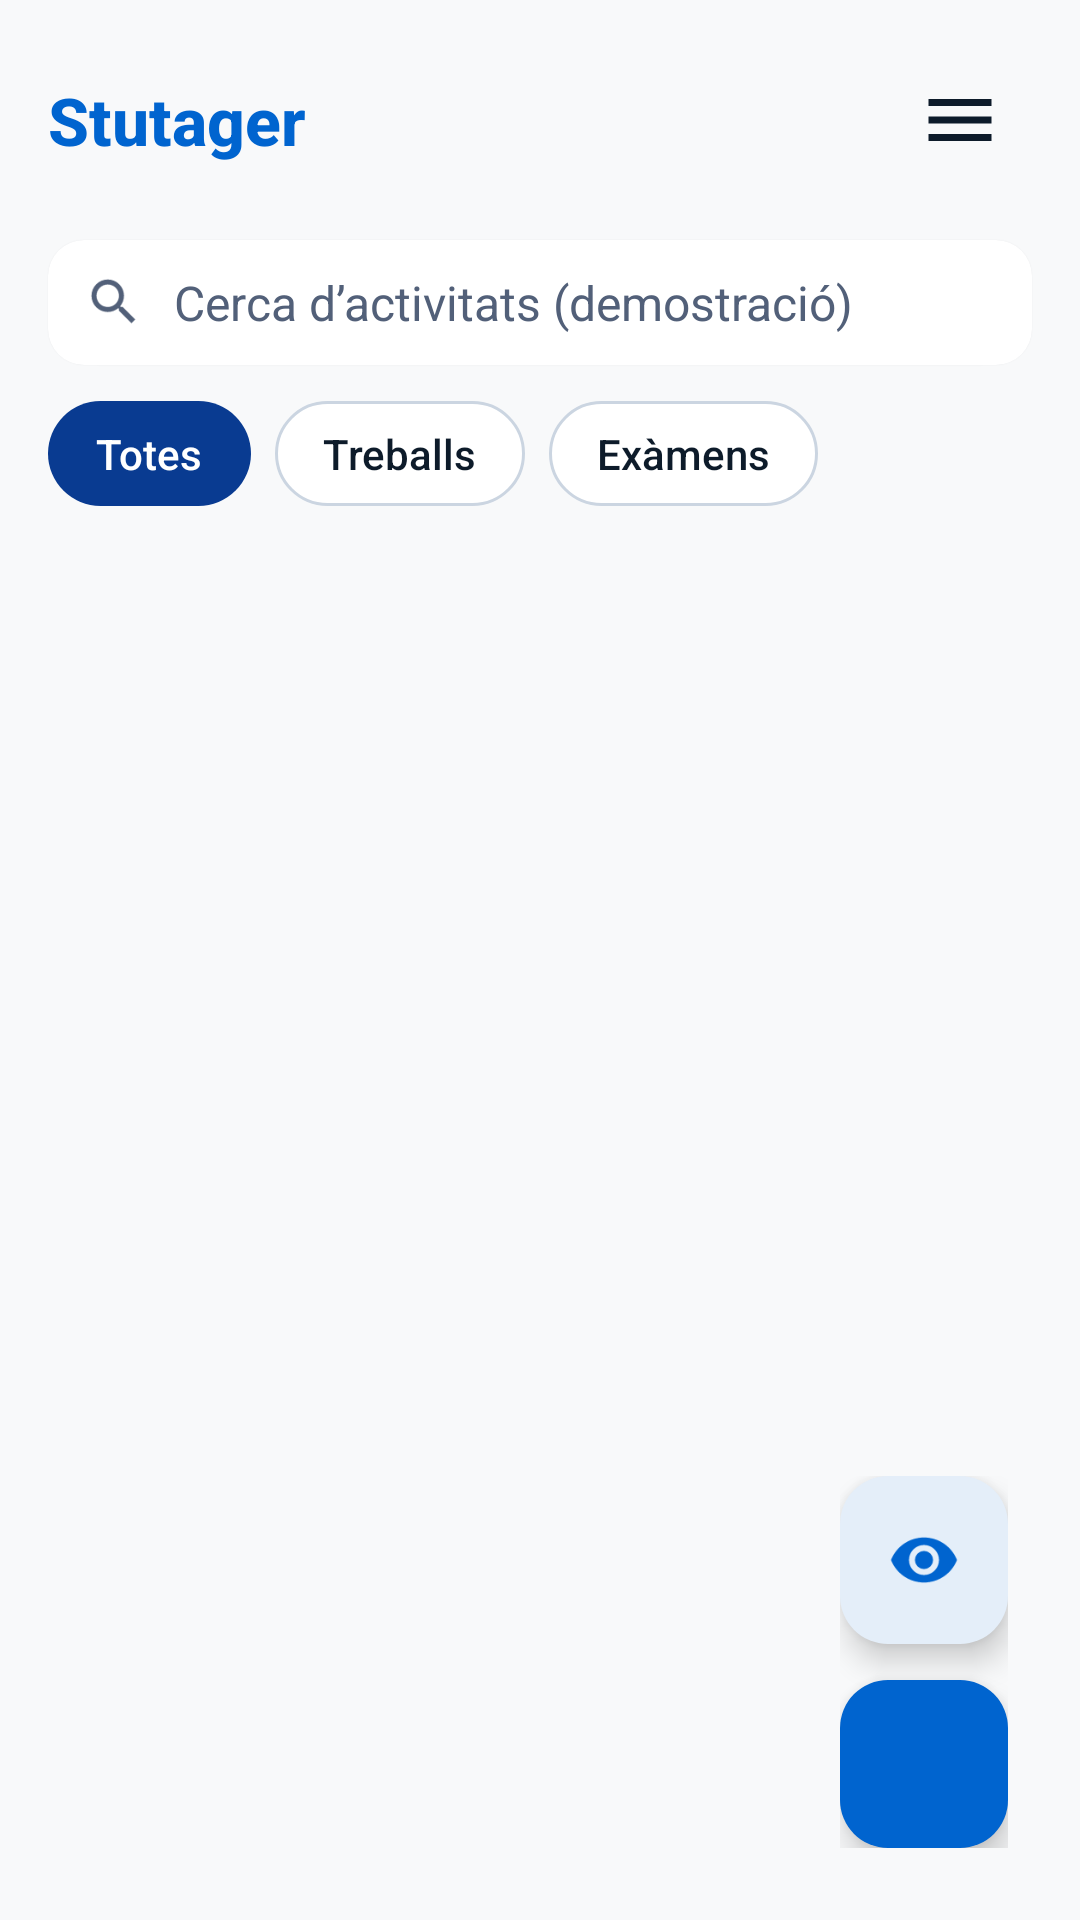

Point at icon controls on the screen. Image size 1080×1920, points as (x=x, y=y).
Menú: (x=960, y=120)
